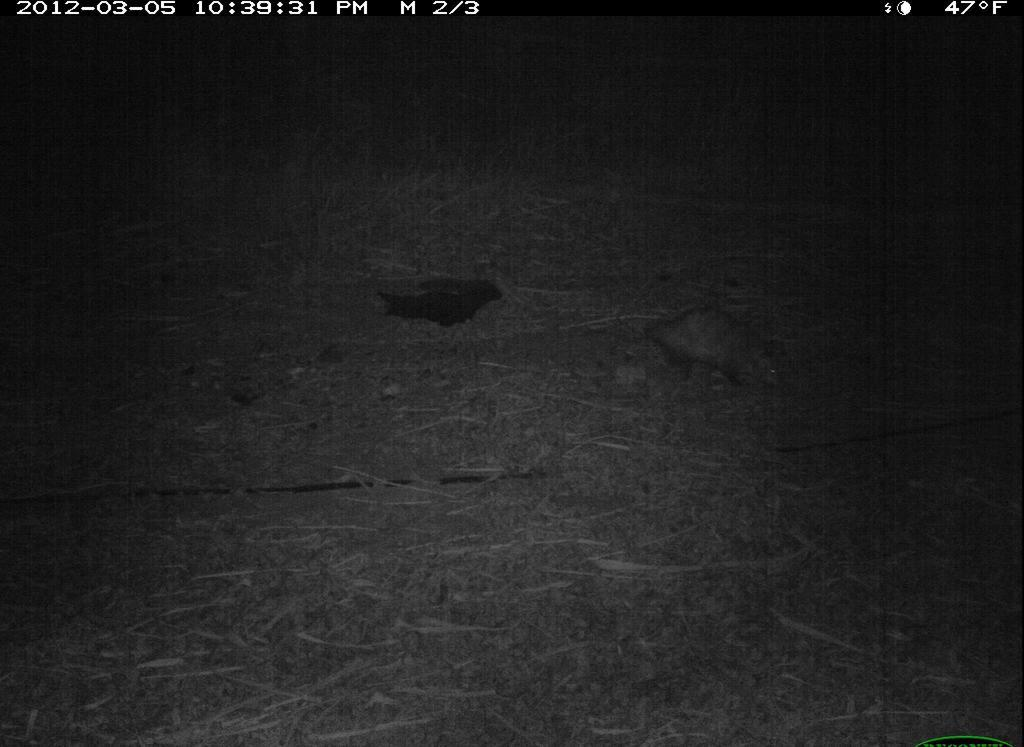opossum: (609, 304, 793, 400)
